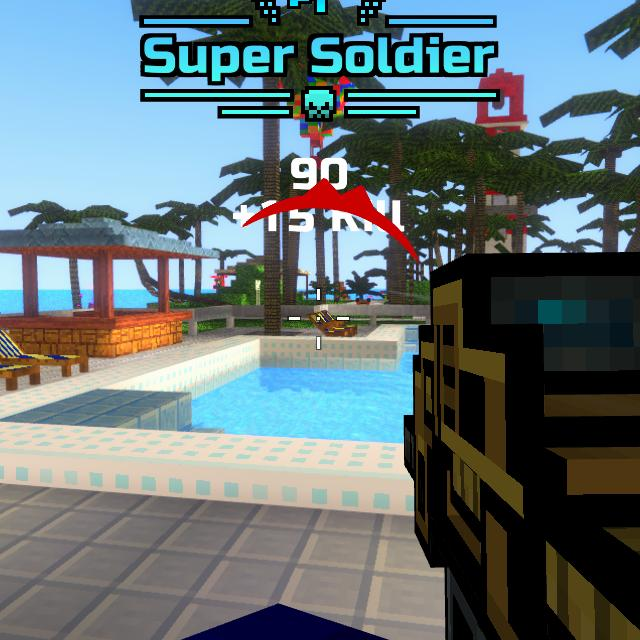Enemy: (213, 278, 223, 290)
